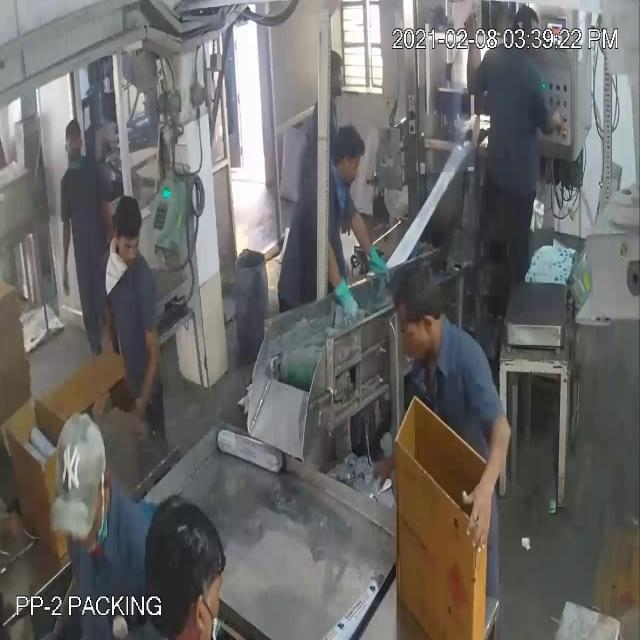No_Gloves: (34, 113, 488, 470)
